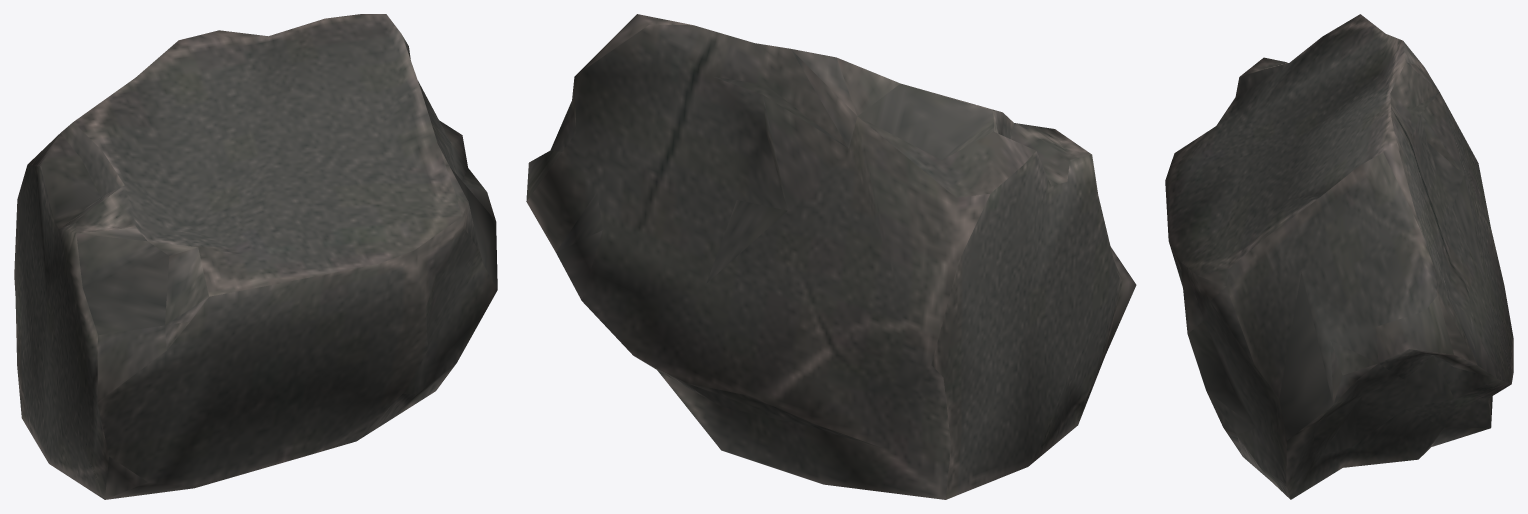
The model's file is cliff_stone_block.gltf.
3 renders of one model, left to right at view 1: azimuth 30°, elevation 25°; view 2: azimuth 150°, elevation 25°; view 3: azimuth 270°, elevation 25°, orthographic. The views are drawn at different scales.
Parts seen in each view (by area): view 1: cliff_stone_block; view 2: cliff_stone_block; view 3: cliff_stone_block.
Part boxes in pixels (left/top/right/bottom): cliff_stone_block: left=14, top=14, right=497, bottom=499; cliff_stone_block: left=526, top=14, right=1136, bottom=499; cliff_stone_block: left=1165, top=14, right=1513, bottom=499.
Size of the model in its own units: 1.56 by 1.17 by 1.
1 material, 1 textured.
